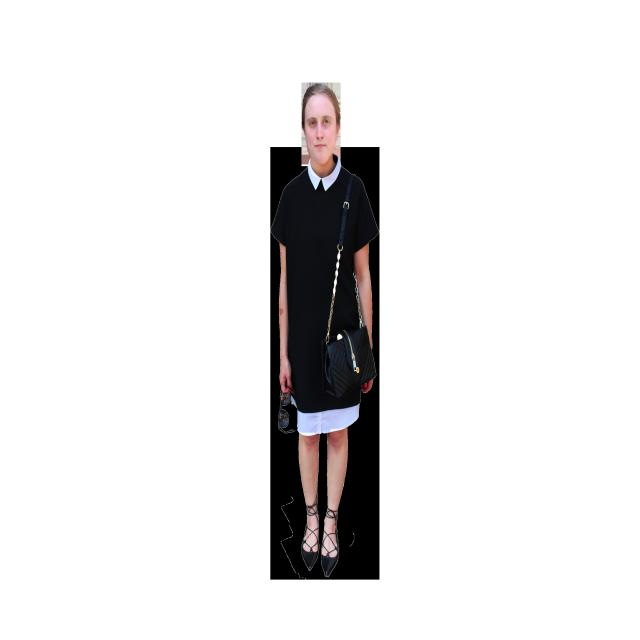jovem: (259, 75, 375, 583)
